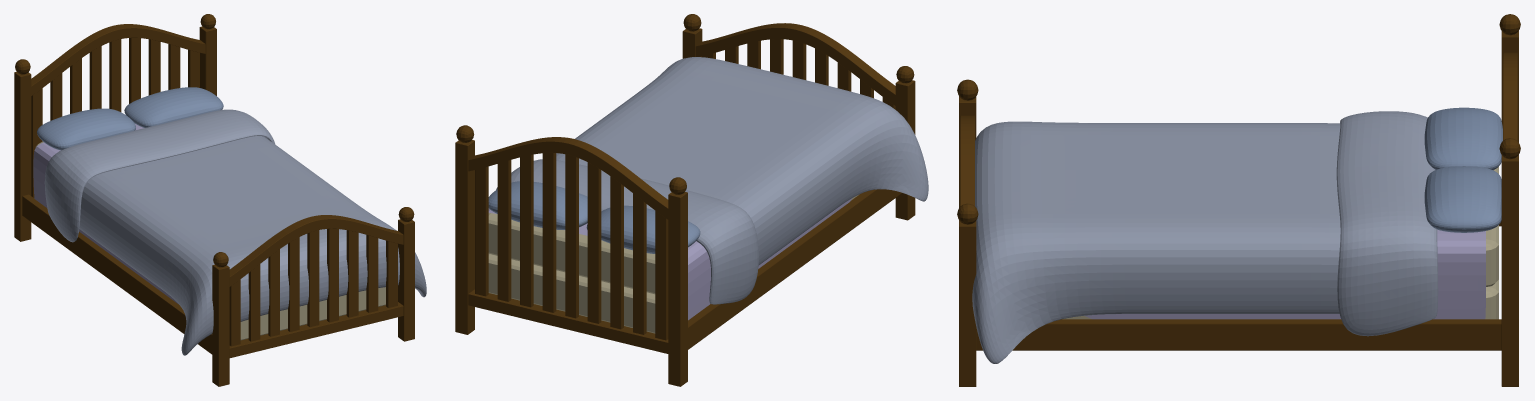
The model's file is bed2.obj.
3 renders of one model, left to right at view 1: azimuth 30°, elevation 25°; view 2: azimuth 150°, elevation 25°; view 3: azimuth 270°, elevation 25°, orthographic. The views are drawn at different scales.
Parts seen in each view (by area): view 1: Plane, Cube.003_Cube.005, Cube.002_Cube.003, Cube, Cube.004_Cube.007, Cube.011_Cube.012, Cube.012_Cube.013, Cube.005_Cube.008, Plane.001, Cube.001_Cube.002; view 2: Plane, Cube.003_Cube.005, Cube.002_Cube.003, Cube, Cube.004_Cube.007, Cube.006_Cube.009, Cube.005_Cube.008, Plane.001, Cube.012_Cube.013, Cube.011_Cube.012, Cube.001_Cube.002; view 3: Plane, Cube.004_Cube.007, Cube, Plane.001, Cube.012_Cube.013, Cube.011_Cube.012, Cube.002_Cube.003, Cube.001_Cube.002, Cube.006_Cube.009, Cube.005_Cube.008.
Boxes of the visible parts, x1=… form: Plane: x1=44, y1=109, x2=426, y2=355; Cube.003_Cube.005: x1=31, y1=38, x2=397, y2=346; Cube.002_Cube.003: x1=31, y1=24, x2=403, y2=357; Cube: x1=14, y1=26, x2=414, y2=386; Cube.004_Cube.007: x1=22, y1=194, x2=212, y2=354; Cube.011_Cube.012: x1=37, y1=108, x2=135, y2=150; Cube.012_Cube.013: x1=124, y1=87, x2=223, y2=127; Cube.005_Cube.008: x1=240, y1=287, x2=385, y2=340; Plane.001: x1=33, y1=124, x2=178, y2=303; Cube.001_Cube.002: x1=15, y1=14, x2=414, y2=267; Plane: x1=496, y1=57, x2=928, y2=304; Cube.003_Cube.005: x1=475, y1=39, x2=895, y2=340; Cube.002_Cube.003: x1=468, y1=23, x2=895, y2=353; Cube: x1=455, y1=28, x2=915, y2=386; Cube.004_Cube.007: x1=688, y1=189, x2=901, y2=349; Cube.006_Cube.009: x1=488, y1=213, x2=655, y2=294; Cube.005_Cube.008: x1=488, y1=195, x2=858, y2=333; Plane.001: x1=488, y1=198, x2=852, y2=320; Cube.012_Cube.013: x1=488, y1=181, x2=587, y2=229; Cube.011_Cube.012: x1=586, y1=205, x2=700, y2=253; Cube.001_Cube.002: x1=456, y1=14, x2=914, y2=194; Plane: x1=972, y1=111, x2=1438, y2=363; Cube.004_Cube.007: x1=976, y1=221, x2=1501, y2=350; Cube: x1=959, y1=31, x2=1518, y2=386; Plane.001: x1=1084, y1=229, x2=1485, y2=319; Cube.012_Cube.013: x1=1424, y1=166, x2=1501, y2=232; Cube.011_Cube.012: x1=1424, y1=107, x2=1502, y2=170; Cube.002_Cube.003: x1=960, y1=52, x2=1517, y2=205; Cube.001_Cube.002: x1=957, y1=14, x2=1520, y2=224; Cube.006_Cube.009: x1=1486, y1=166, x2=1498, y2=286; Cube.005_Cube.008: x1=1062, y1=280, x2=1498, y2=319.
Bounding box in the file's own units: 145 × 108 × 214.
